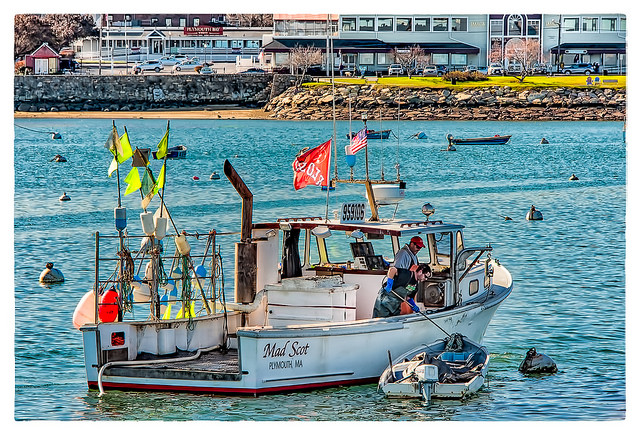boat: (378, 332, 496, 402), (445, 124, 510, 146)
fishing_boat: (73, 86, 520, 394)
